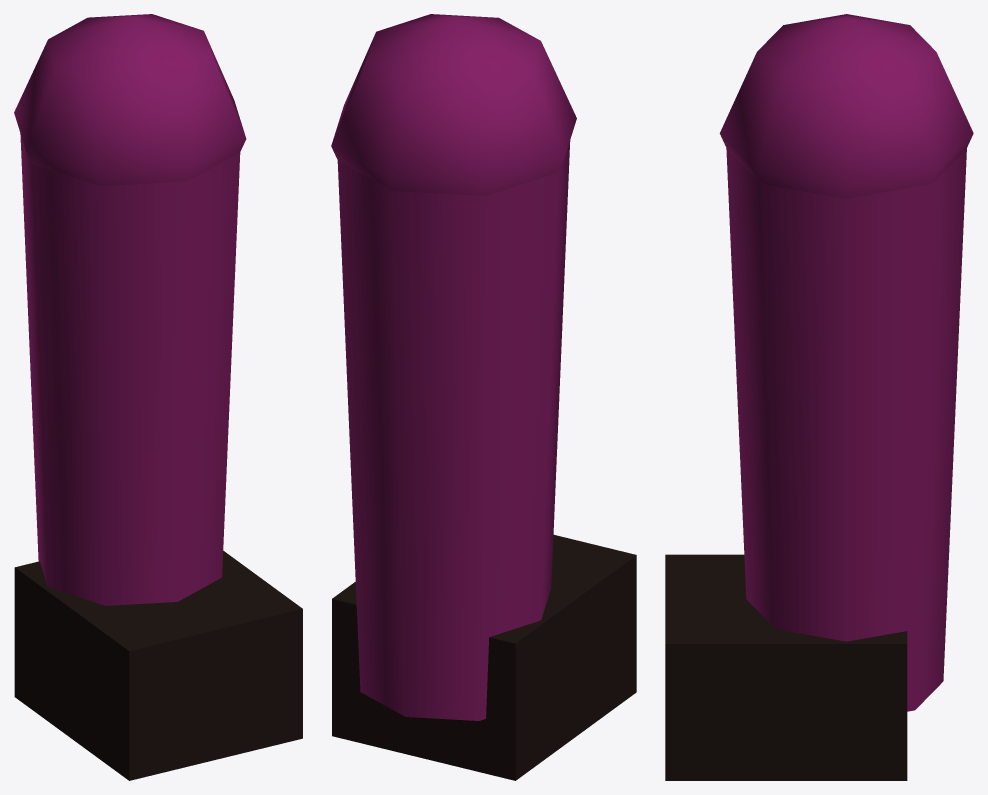
The model's file is PFlor_Pantorrilla.obj.
3 renders of one model, left to right at view 1: azimuth 30°, elevation 25°; view 2: azimuth 150°, elevation 25°; view 3: azimuth 270°, elevation 25°, orthographic. The views are drawn at different scales.
Parts seen in each view (by area): view 1: Pantorrilla; view 2: Pantorrilla; view 3: Pantorrilla.
Part boxes in pixels (left/top/right/bottom): Pantorrilla: left=14, top=14, right=302, bottom=780; Pantorrilla: left=331, top=14, right=636, bottom=780; Pantorrilla: left=665, top=14, right=973, bottom=780.
Bounding box in the file's own units: 0.084 × 0.262 × 0.102.
1 material, 1 textured.
